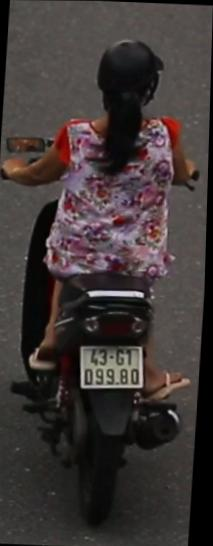LP: (78, 337, 150, 394)
helmet: (93, 33, 166, 105)
